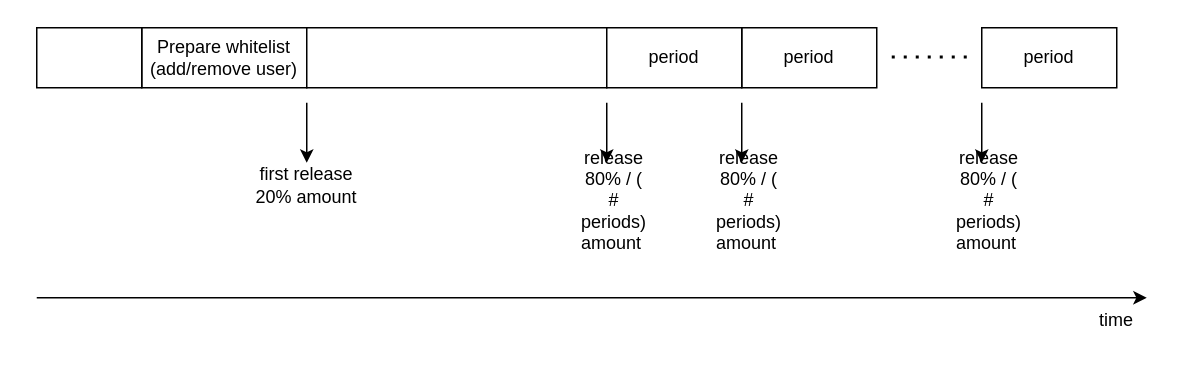
This 1188x369 diagram has some shape labels left out. The centre of each missing label's shape, as x and y in pixels:
"cliff" goes at (x=456, y=57).
"Lock tokens into vesting contract" goes at (x=88, y=57).
